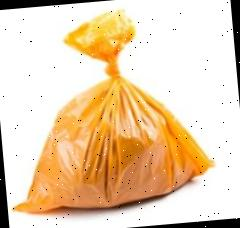plastic: (0, 1, 218, 217)
